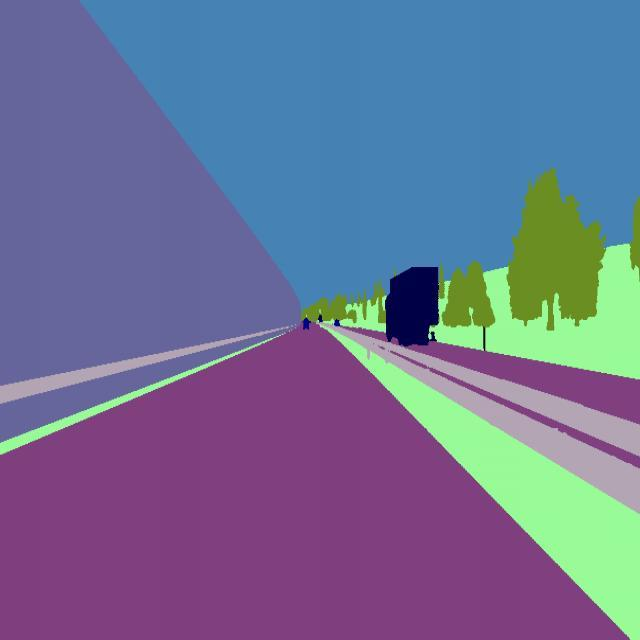safe: (382, 262, 444, 357)
